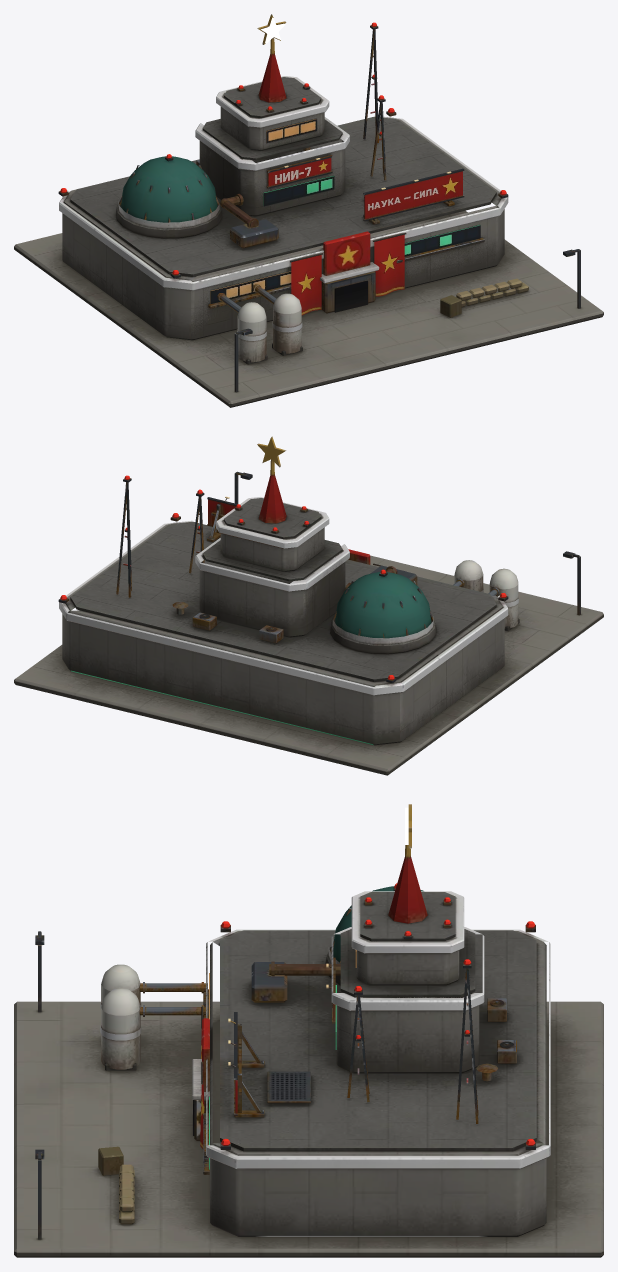
The model's file is stek.soviet.glb.
3 views of the same model, one above another, from view 1: azimuth 30°, elevation 25°; view 2: azimuth 150°, elevation 25°; view 3: azimuth 270°, elevation 25° (orthographic). The views are drawn at different scales.
Visible parts, largest first — view 1: root_mesh; view 2: root_mesh; view 3: root_mesh.
Boxes of the visible parts, box(x1,y1,x2,y2) form: root_mesh: box(14, 22, 603, 407); root_mesh: box(14, 459, 603, 775); root_mesh: box(14, 845, 603, 1257).
Size of the model in its own units: 2.98 by 1.84 by 2.98.
3 materials, 1 textured.
